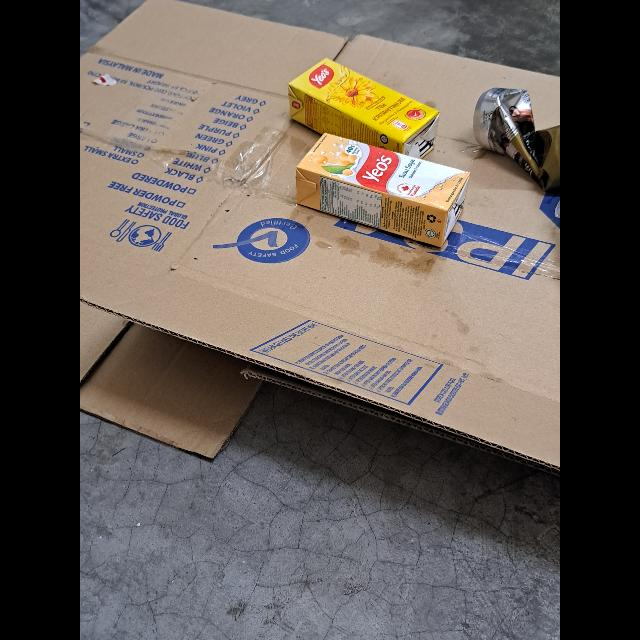caixinha: (295, 133, 471, 247), (290, 57, 440, 156)
lata: (472, 88, 560, 194)
papelão: (80, 0, 560, 474)
